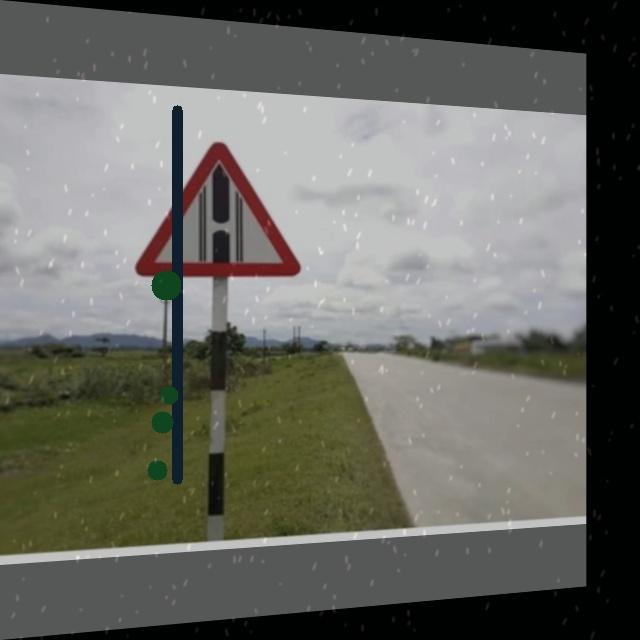Gap_in_Median: (135, 134, 306, 281)
